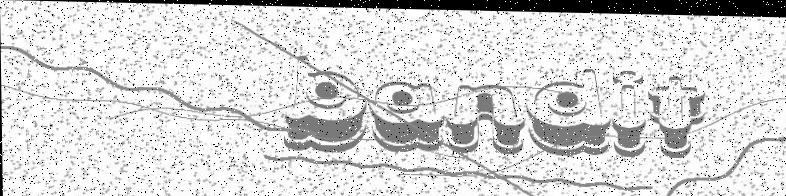a: (369, 76, 446, 153)
b: (282, 53, 369, 152)
d: (526, 63, 611, 155)
i: (610, 67, 648, 155)
n: (445, 80, 526, 155)
t: (647, 71, 706, 156)
